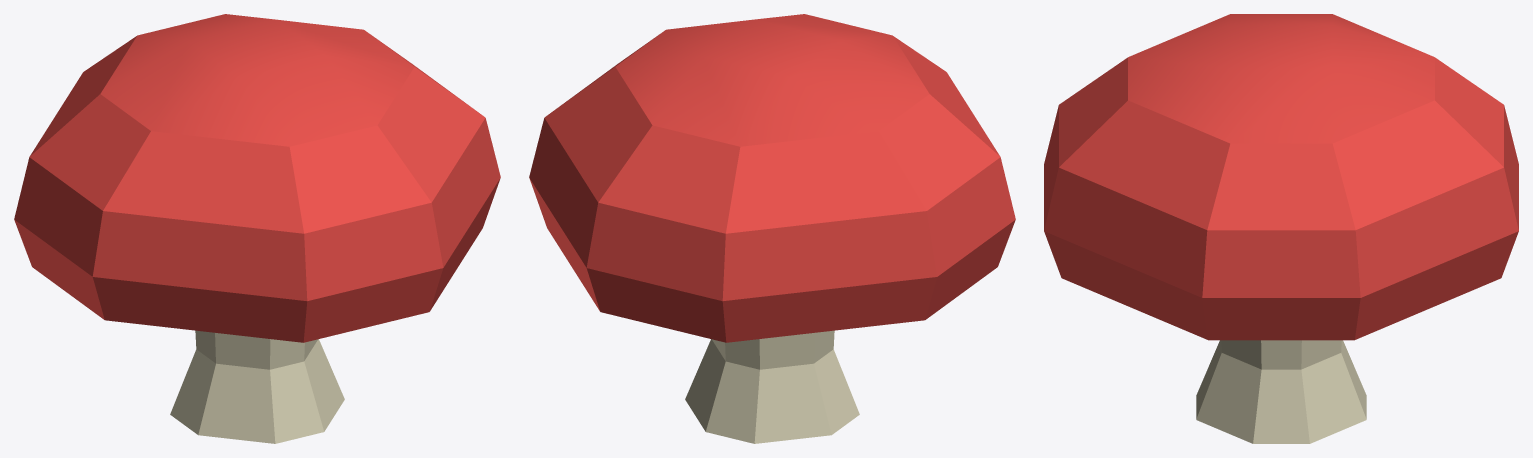
The model's file is hongo.fbx.
3 views of the same model, side by side, from view 1: azimuth 30°, elevation 25°; view 2: azimuth 150°, elevation 25°; view 3: azimuth 270°, elevation 25° (orthographic).
Visible parts, largest first — view 1: pCube1; view 2: pCube1; view 3: pCube1.
Boxes of the visible parts, x1,y1,x2,y2 form: pCube1: (14, 14, 500, 443); pCube1: (529, 14, 1015, 443); pCube1: (1044, 14, 1518, 443).
Size of the model in its own units: 75.51 by 63.31 by 75.51.
